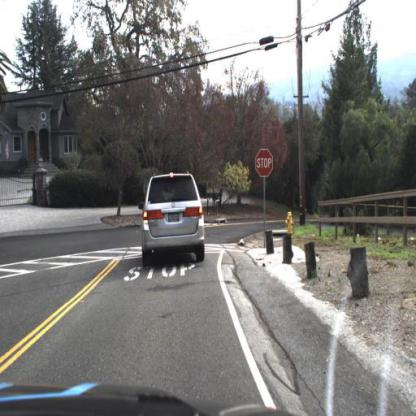car: (144, 170, 208, 266)
